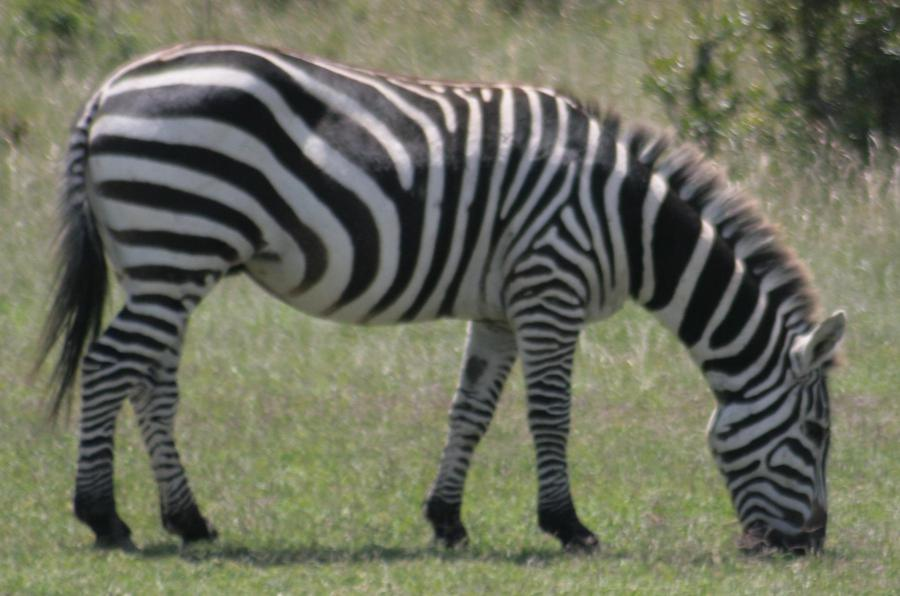zebra_plains: (86, 43, 613, 331)
